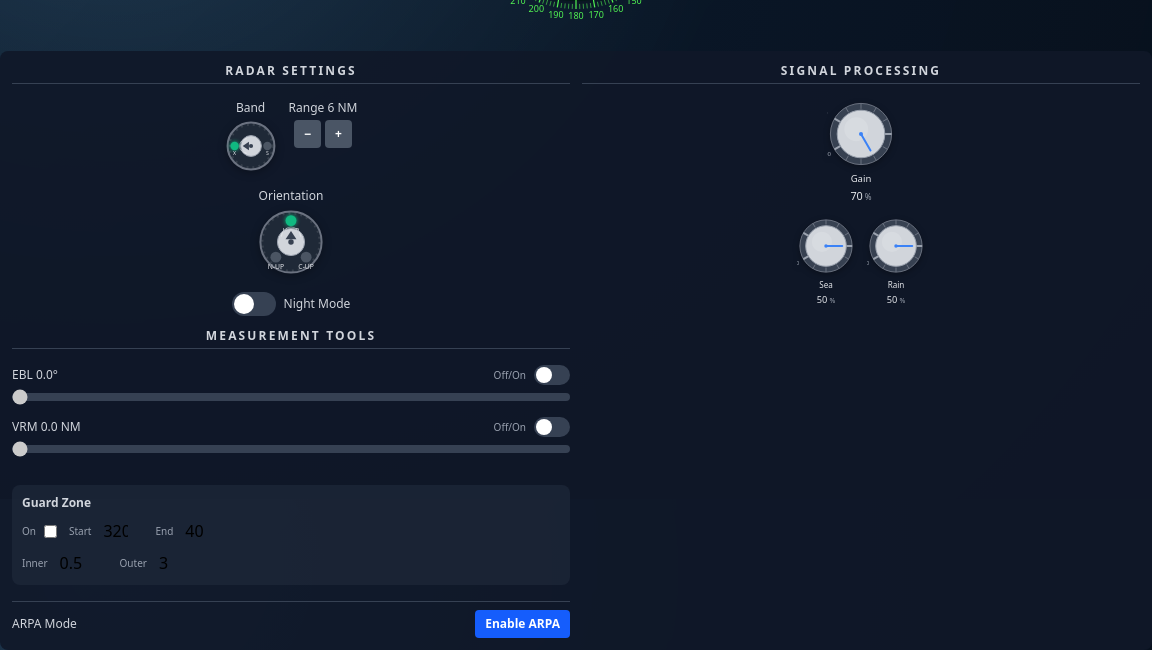
Test case: RadarDisplay › toggles the ARPA panel on demand
(page scrolled)
Click the button "Enable ARPA" at (523, 624), box [475,610,570,638]
(page scrolled)
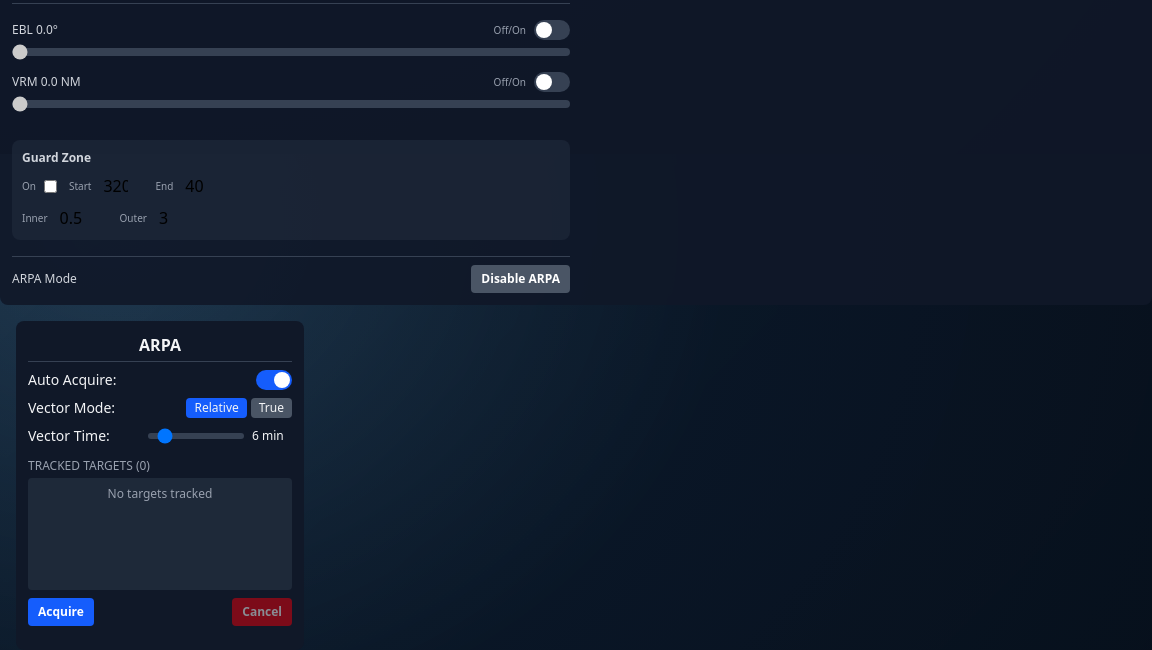
Expected: the heading "ARPA" is shown, [28,333,292,362]
